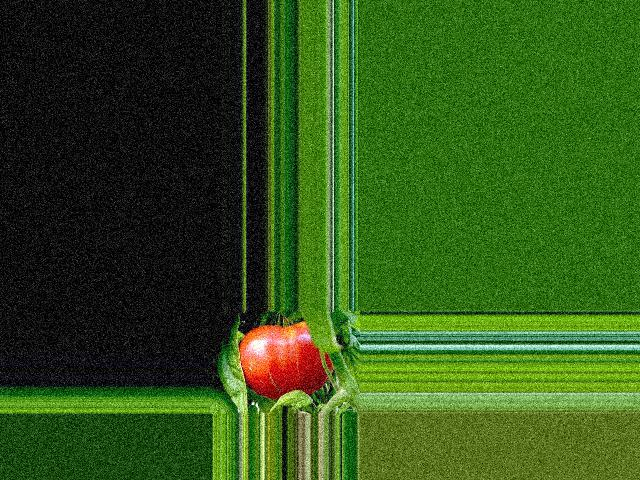tomato: (238, 321, 333, 399)
